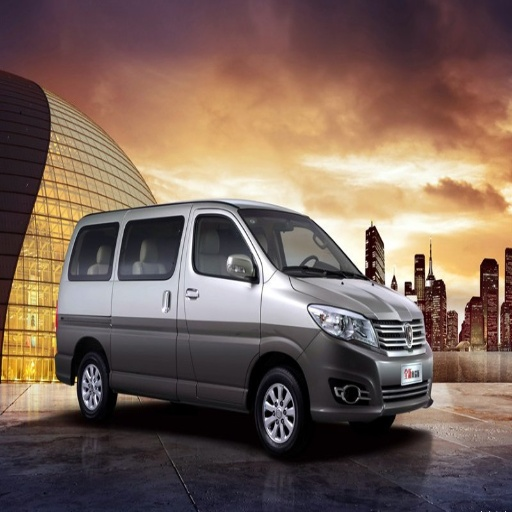front_bumper: (303, 321, 433, 420)
front_right_door: (177, 210, 261, 405)
front_right_light: (309, 303, 375, 346)
trunk: (57, 283, 112, 363)
